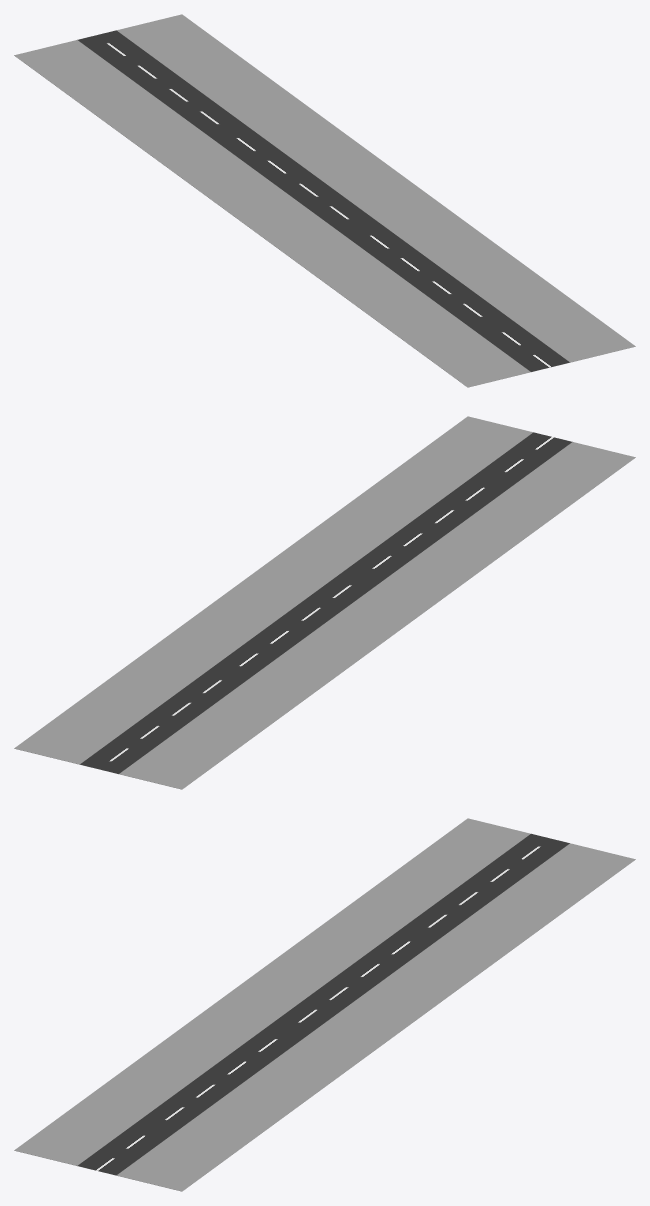
The model's file is Street_v02.fbx.
3 renders of one model, top to bottom at view 1: azimuth 30°, elevation 25°; view 2: azimuth 150°, elevation 25°; view 3: azimuth 330°, elevation 25°, orthographic.
Parts seen in each view (by area): view 1: pCube31; view 2: pCube31; view 3: pCube31.
Boxes of the visible parts, <box> form: pCube31: <box>14,14,635,387</box>; pCube31: <box>14,416,635,789</box>; pCube31: <box>14,818,635,1191</box>.
Bounding box in the file's own units: 82.13 × 0.0791 × 384.
